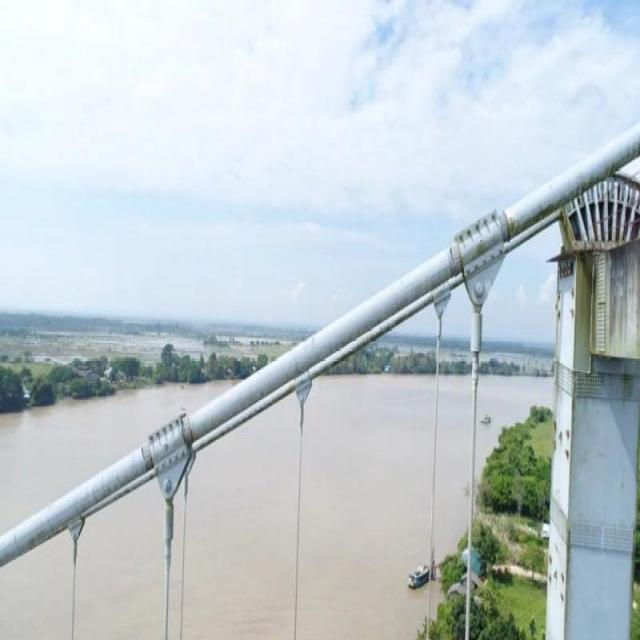Slippage: (498, 208, 511, 244), (450, 243, 462, 276), (141, 443, 153, 472), (183, 414, 194, 444)
